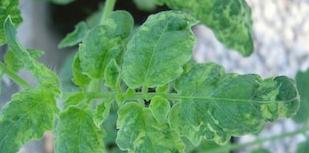Tomato leaf mosaic virus: (162, 60, 304, 146), (113, 7, 196, 94), (0, 83, 65, 153), (116, 98, 193, 153), (52, 104, 105, 153)
